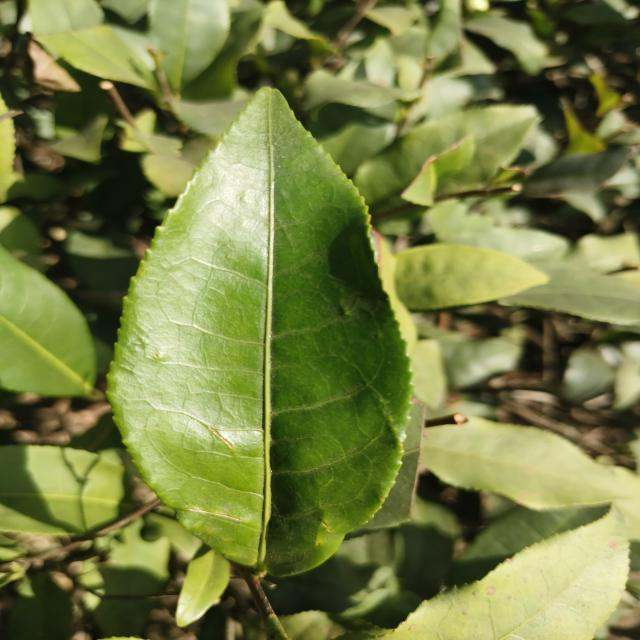Leaf: (109, 88, 411, 576), (387, 508, 628, 640), (420, 418, 622, 510), (354, 105, 539, 204), (0, 247, 96, 396), (450, 506, 608, 584), (0, 445, 124, 536), (395, 243, 548, 311), (499, 262, 640, 325), (149, 0, 230, 93), (40, 25, 153, 89), (309, 103, 395, 177), (466, 13, 548, 74), (176, 543, 230, 627), (305, 69, 418, 109), (8, 572, 73, 640), (64, 231, 138, 290), (440, 337, 520, 389), (467, 227, 569, 260), (52, 114, 108, 162)
